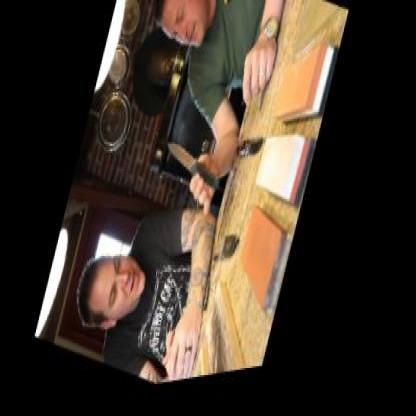knife: (152, 126, 228, 230)
